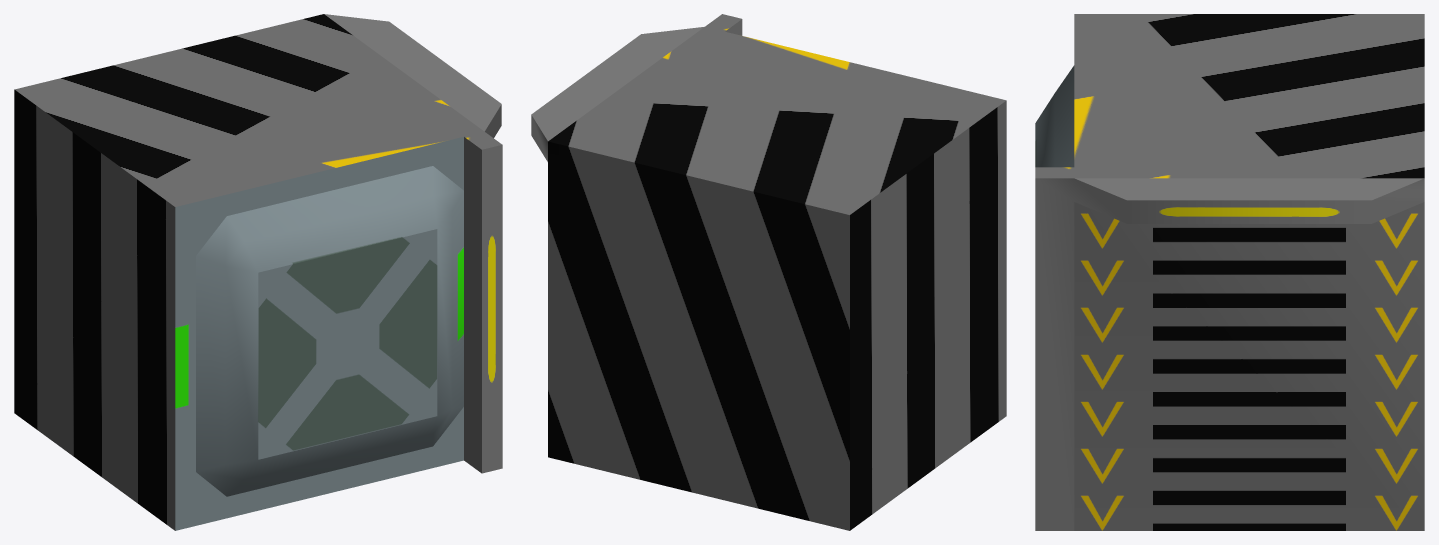
File: MidPartPitLedgesLeft.fbx
3 renders of one model, left to right at view 1: azimuth 30°, elevation 25°; view 2: azimuth 150°, elevation 25°; view 3: azimuth 270°, elevation 25°, orthographic. The views are drawn at different scales.
Parts seen in each view (by area): view 1: geo1; view 2: geo1; view 3: geo1.
Boxes of the visible parts, left/top/right/bottom form: geo1: left=14, top=14, right=502, bottom=530; geo1: left=531, top=14, right=1006, bottom=530; geo1: left=1035, top=14, right=1424, bottom=530.
Bounding box in the file's own units: 3.4 × 3 × 3.
